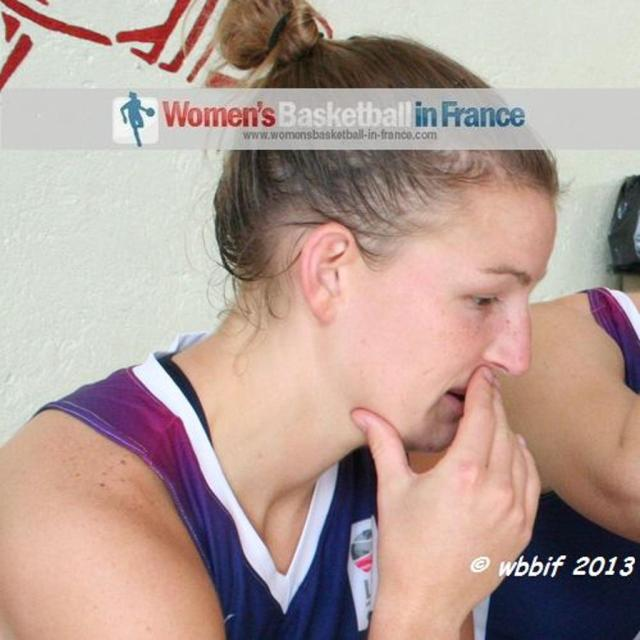Face: (344, 183, 560, 446)
